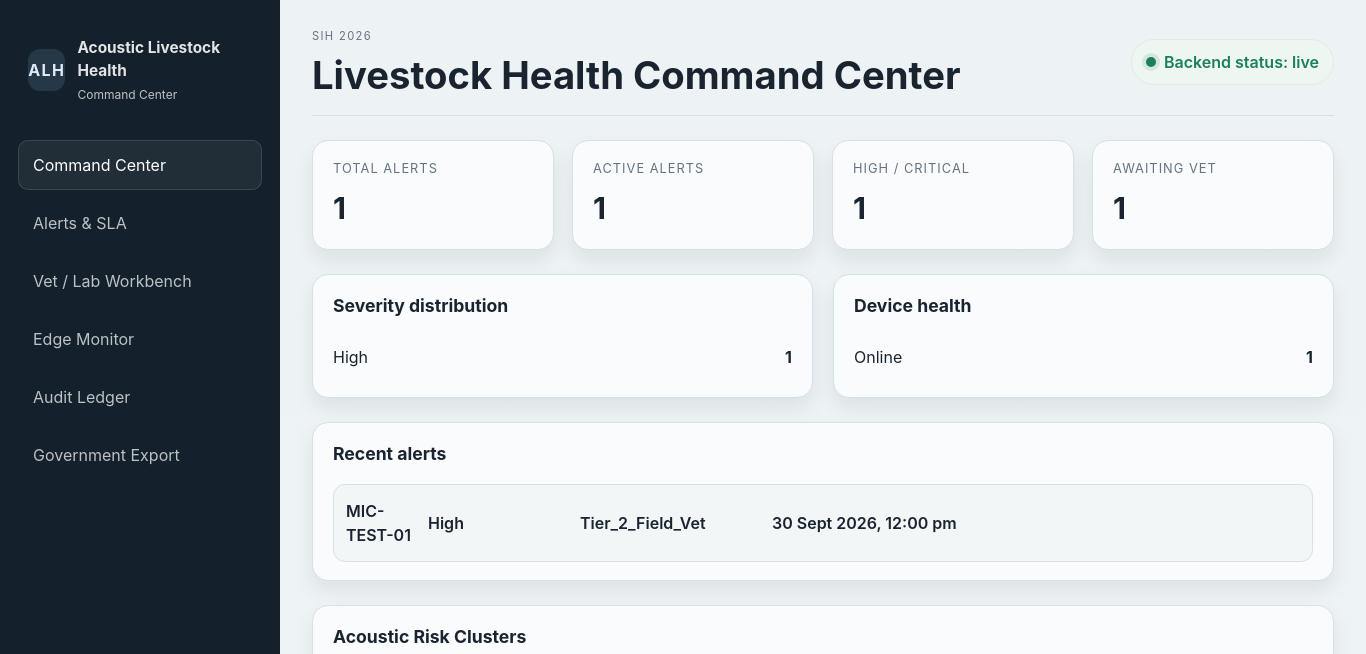
Test case: App shell and dashboard › supports navigation between the main workspaces
Step 1. Click the button "Alerts & SLA" → [140, 223], box [18,198,262,248]
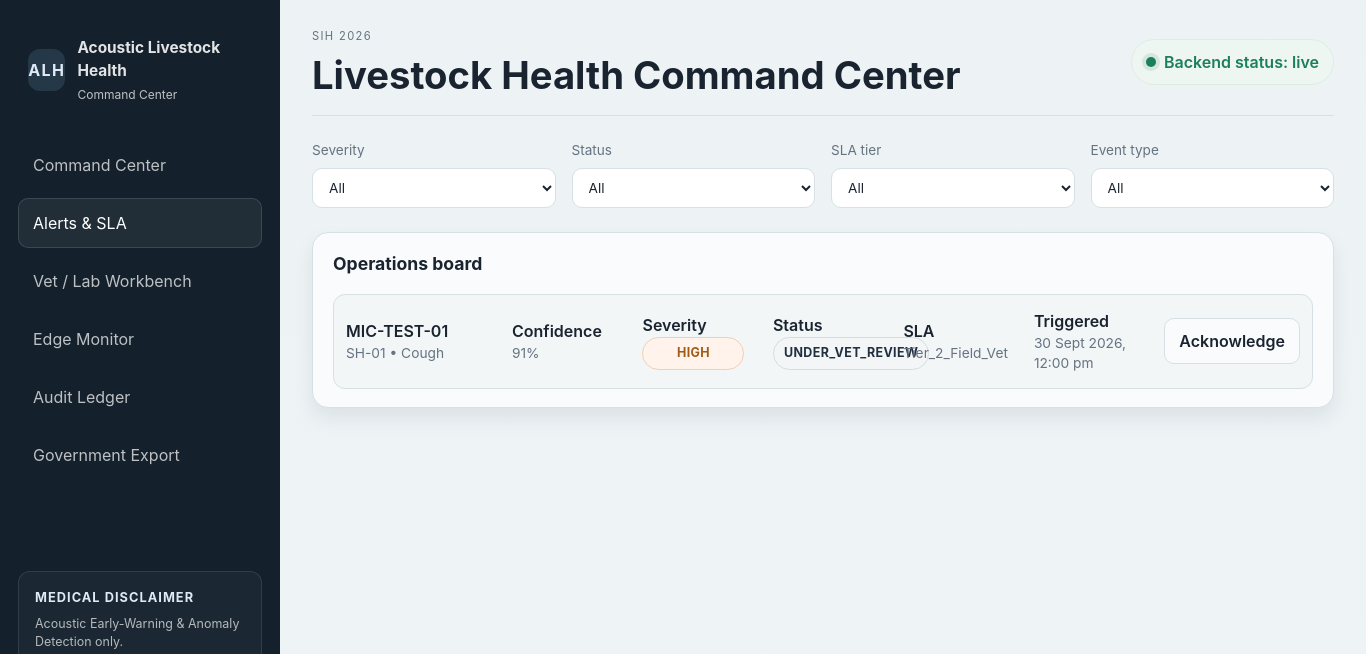
Result: the heading "Operations board" is shown at [333,251,482,278]
Step 2. Click the button "Vet / Lab Workbench" → [140, 281], box [18,256,262,306]
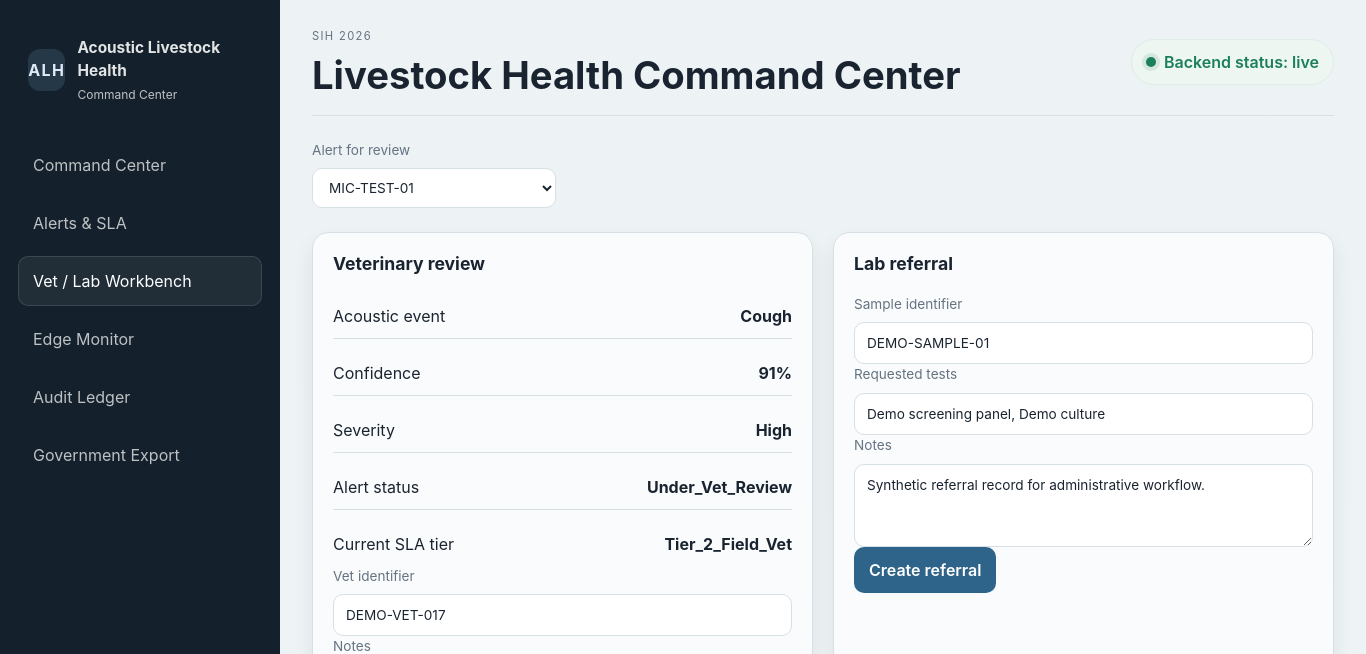
Result: the heading "Veterinary review" is shown at [333,251,485,278]
